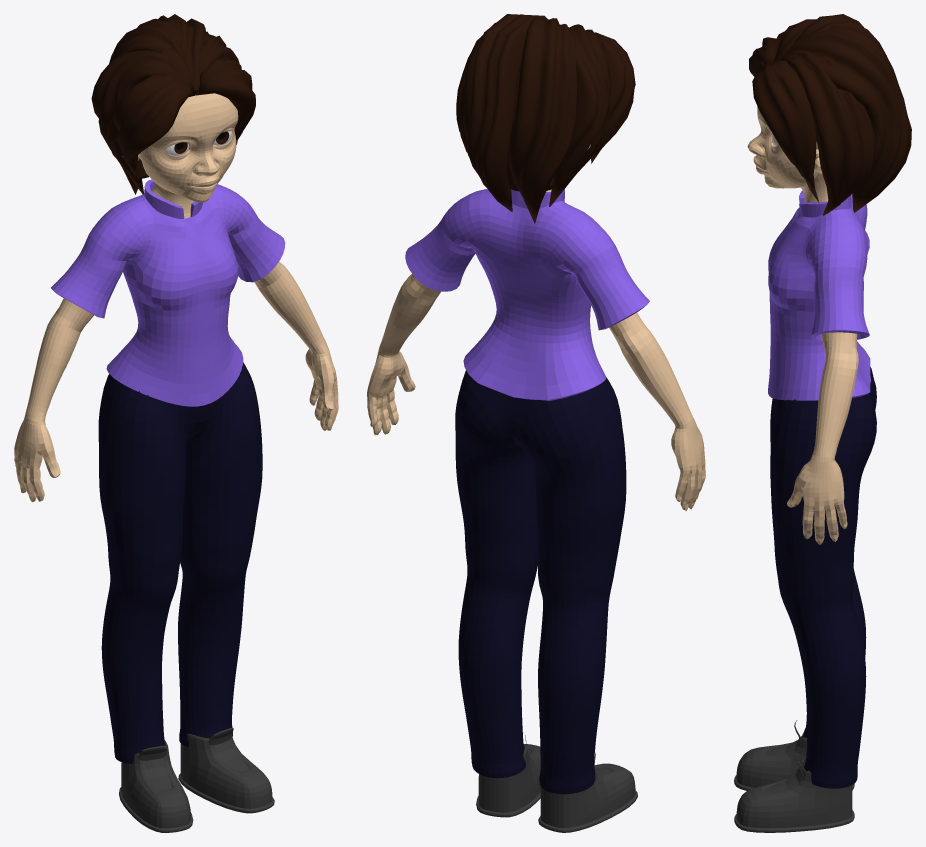
The model's file is Irina_face14.glb.
The picture shows the model from 3 angles, left to right: view 1: azimuth 30°, elevation 25°; view 2: azimuth 150°, elevation 25°; view 3: azimuth 270°, elevation 25°; orthographic projection. The views are drawn at different scales.
Parts seen in each view (by area): view 1: Trousers, Shirt, Body.002, NurbsPath.001, Shoe.L, Shoe.R; view 2: Trousers, Shirt, NurbsPath.001, Body.002, Shoe.R, Shoe.L; view 3: Trousers, NurbsPath.001, Shirt, Body.002, Shoe.L, Shoe.R.
Boxes of the visible parts, bbox=[...] form: Trousers: bbox=[98, 362, 262, 763]; Shirt: bbox=[51, 179, 285, 406]; Body.002: bbox=[14, 93, 338, 502]; NurbsPath.001: bbox=[91, 14, 255, 194]; Shoe.L: bbox=[178, 727, 274, 813]; Shoe.R: bbox=[119, 740, 193, 832]; Trousers: bbox=[455, 370, 626, 794]; Shirt: bbox=[405, 189, 649, 400]; NurbsPath.001: bbox=[456, 14, 635, 223]; Body.002: bbox=[367, 144, 705, 511]; Shoe.R: bbox=[538, 753, 637, 832]; Shoe.L: bbox=[476, 732, 540, 817]; Trousers: bbox=[770, 367, 876, 788]; NurbsPath.001: bbox=[749, 14, 911, 215]; Shirt: bbox=[768, 190, 871, 400]; Body.002: bbox=[747, 106, 858, 544]; Shoe.L: bbox=[734, 755, 854, 832]; Shoe.R: bbox=[734, 720, 854, 790].
Bounding box in the file's own units: 0.7209 × 1.69 × 0.3498.
Materials: 6 (1 with a texture image).
